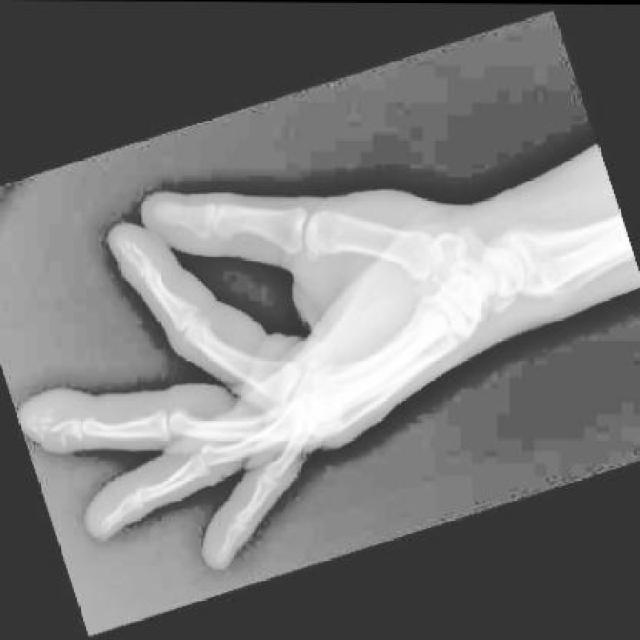Fracture: (22, 402, 76, 455), (108, 225, 144, 267)
